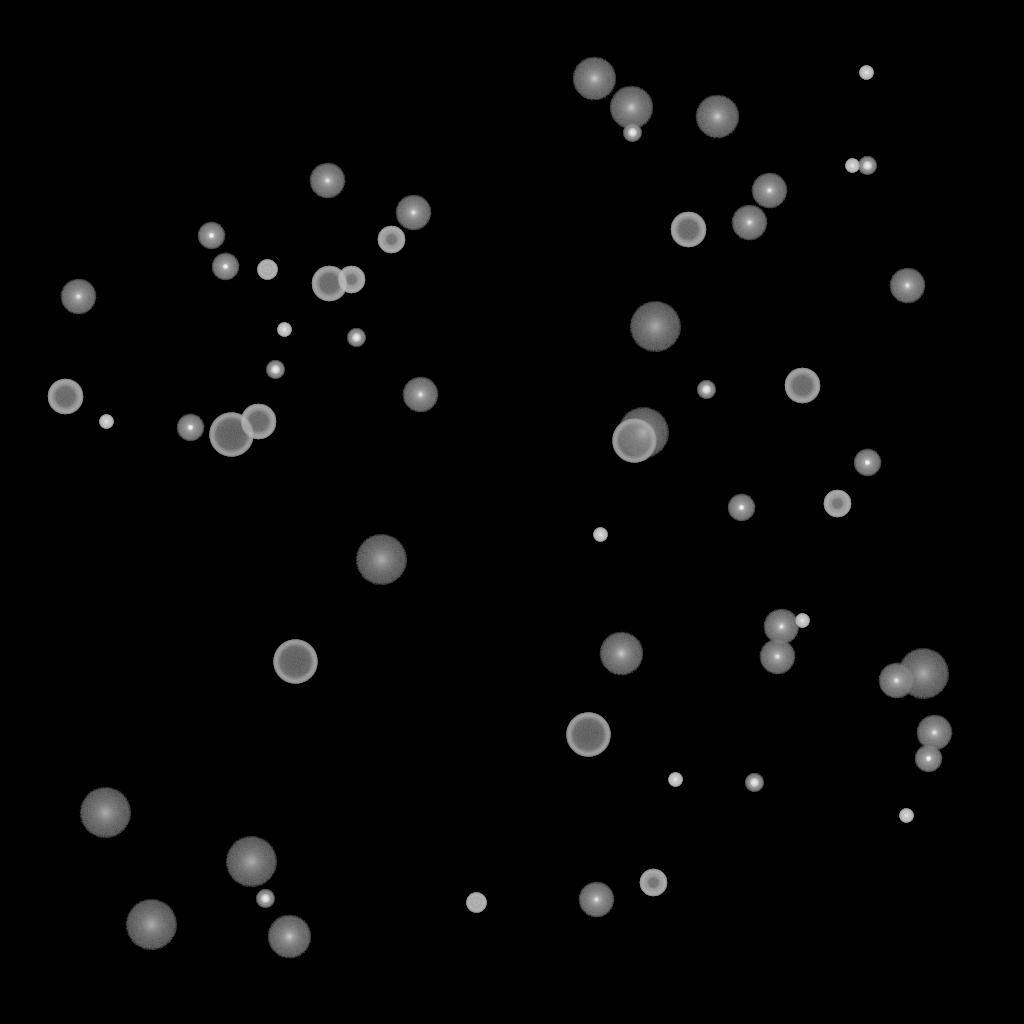depth:-10: (727, 494, 755, 522), (176, 414, 204, 442), (914, 745, 942, 773), (211, 253, 239, 281), (853, 449, 881, 477), (197, 222, 225, 250)
depth:-20: (858, 157, 876, 175), (266, 361, 284, 379), (697, 381, 715, 399), (256, 890, 274, 908), (347, 329, 365, 347), (745, 774, 763, 792), (623, 124, 641, 142)
depth:-30: (668, 773, 682, 787), (859, 66, 873, 80), (845, 159, 859, 173), (593, 528, 607, 542), (899, 809, 913, 823), (99, 415, 113, 429), (795, 614, 809, 628), (277, 323, 291, 337)
depth:-40: (466, 893, 486, 913), (257, 260, 277, 280)
depth:-50: (639, 869, 667, 897), (337, 266, 365, 294), (823, 490, 851, 518), (377, 226, 405, 254)
depth:-60: (240, 404, 276, 440), (670, 212, 706, 248), (311, 266, 347, 302), (47, 379, 83, 415), (784, 368, 820, 404)
depth:-70: (273, 640, 317, 684), (612, 419, 656, 463), (209, 413, 253, 457), (566, 713, 610, 757)
depth:0: (916, 715, 952, 751), (402, 377, 438, 413), (395, 195, 431, 231), (878, 663, 914, 699), (759, 639, 795, 675), (751, 173, 787, 209), (578, 882, 614, 918), (60, 279, 96, 315), (309, 163, 345, 199), (763, 609, 799, 645), (731, 205, 767, 241), (889, 268, 925, 304)
depth:10: (572, 57, 616, 101), (695, 95, 739, 139), (599, 632, 643, 676), (267, 915, 311, 959), (609, 86, 653, 130)
depth:20: (225, 837, 277, 887), (617, 408, 669, 458), (355, 535, 407, 585), (897, 649, 949, 699), (629, 302, 681, 352), (125, 900, 177, 950), (79, 788, 131, 838)
